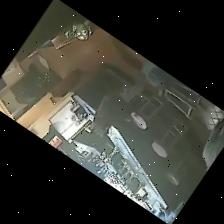person: (89, 63, 148, 140), (199, 117, 223, 178)
